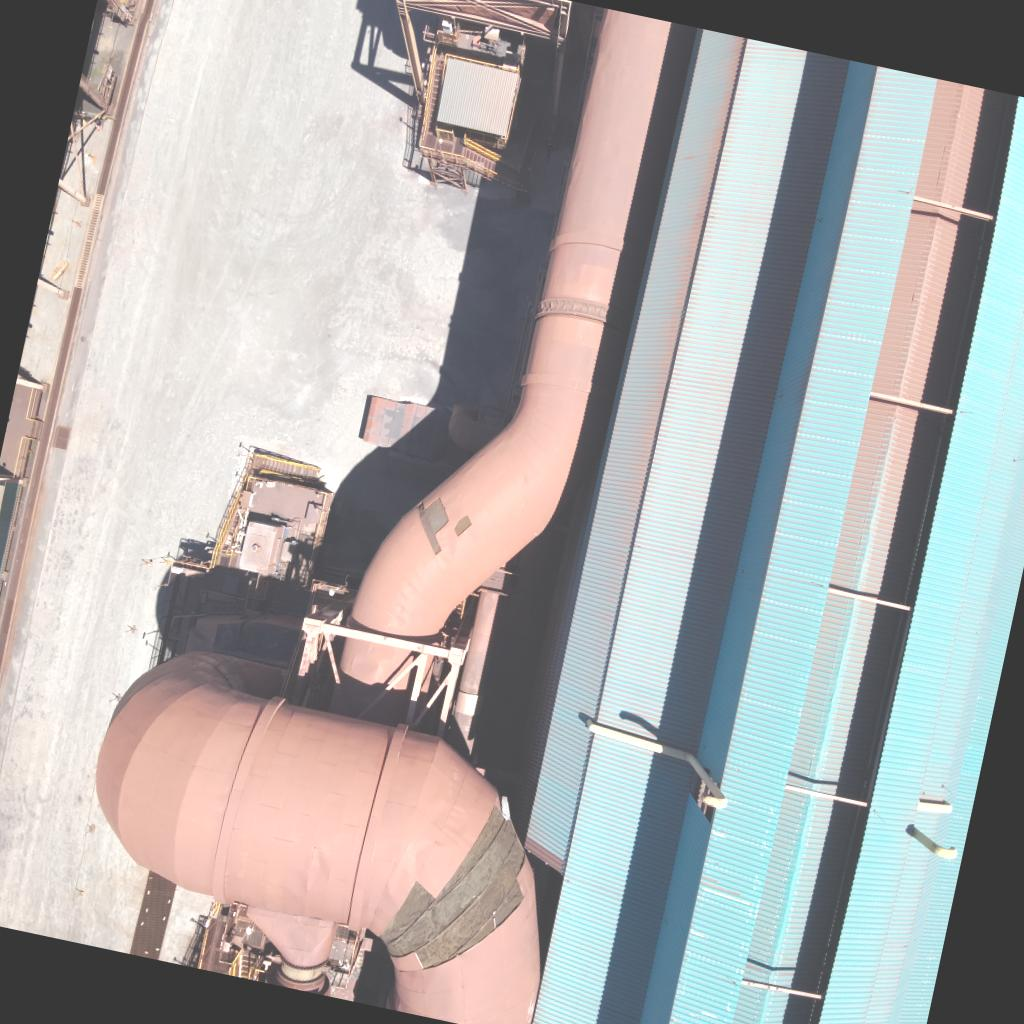Failures: (371, 785, 538, 993), (408, 492, 452, 556), (452, 513, 474, 544)
